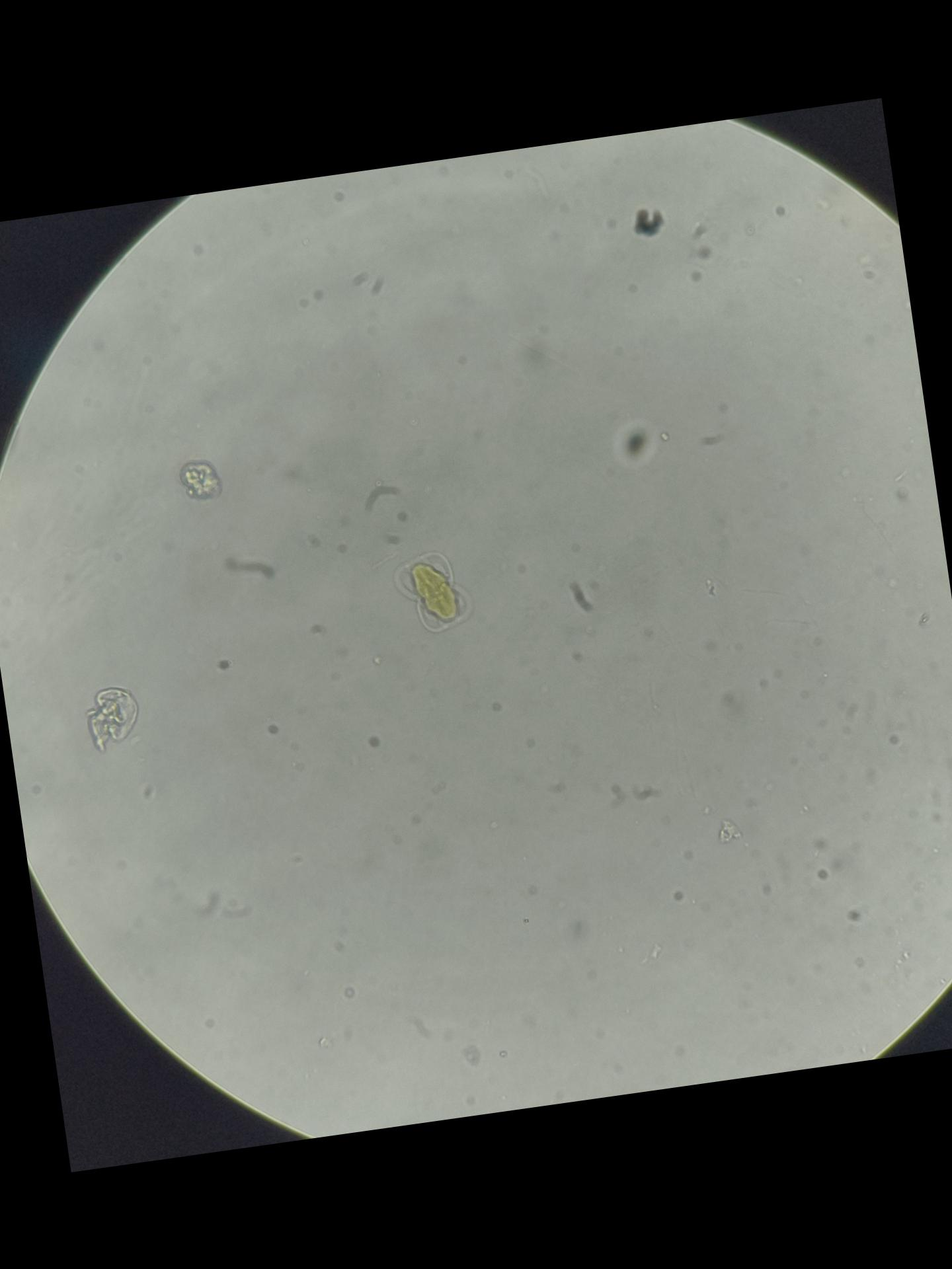Euglena: (381, 535, 483, 643)
